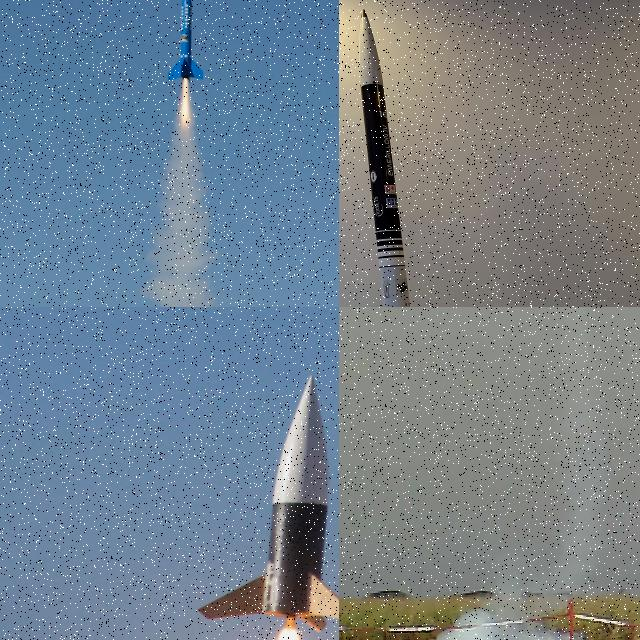Rocket: (196, 373, 339, 634), (359, 9, 410, 307), (167, 0, 205, 82)
